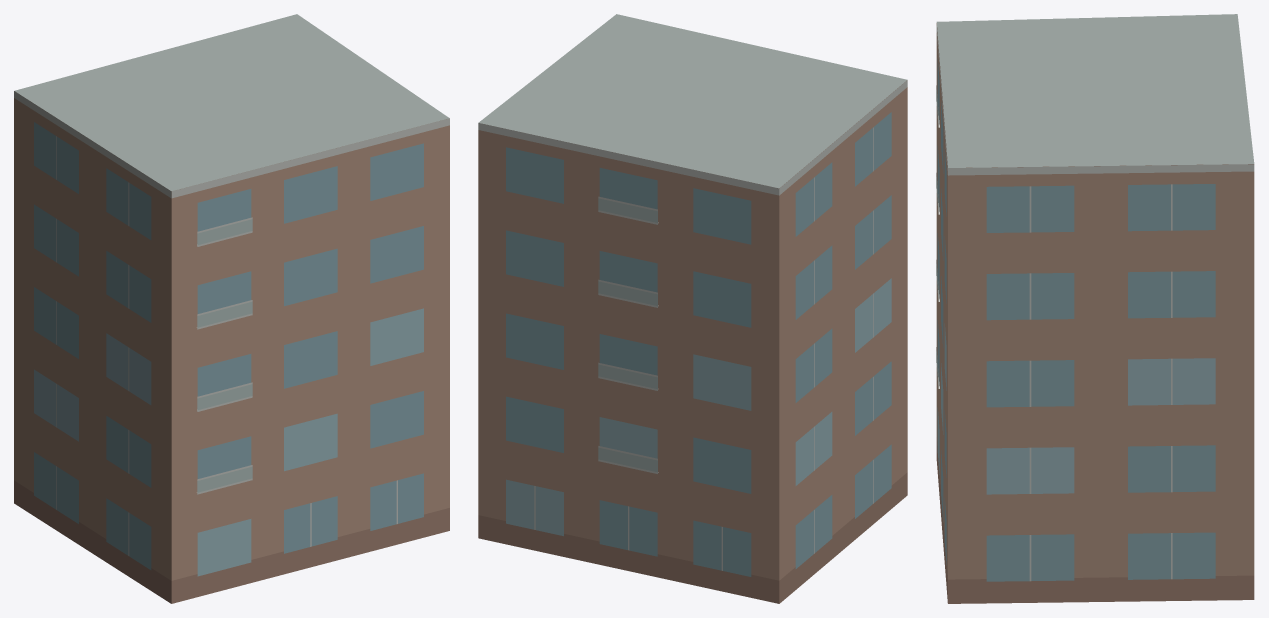
The model's file is survey-upis-32706498.glb.
3 views of the same model, side by side, from view 1: azimuth 30°, elevation 25°; view 2: azimuth 150°, elevation 25°; view 3: azimuth 270°, elevation 25° (orthographic). The views are drawn at different scales.
Visible parts, largest first — view 1: survey-upis-32706498.tmp; view 2: survey-upis-32706498.tmp; view 3: survey-upis-32706498.tmp.
Boxes of the visible parts, x1,y1,x2,y2 form: survey-upis-32706498.tmp: (14, 14, 449, 603); survey-upis-32706498.tmp: (478, 14, 907, 603); survey-upis-32706498.tmp: (936, 14, 1254, 603).
Bounding box in the file's own units: 10.77 × 14.2 × 9.39.
